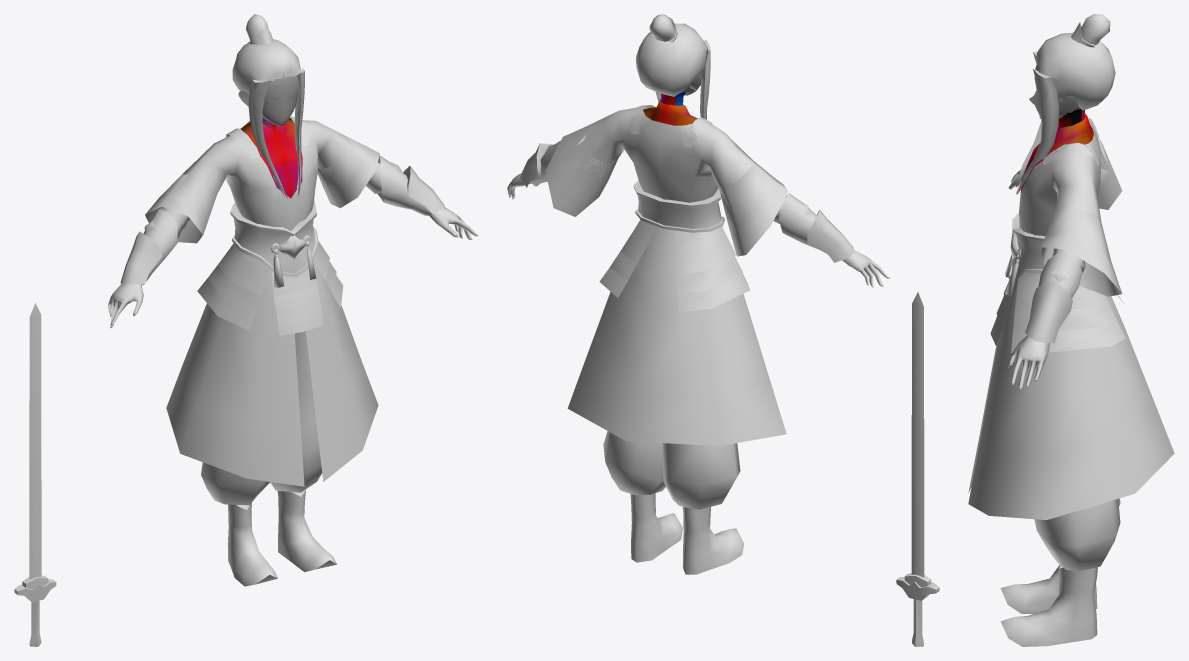
The model's file is m_016_sword_soldier_4_view.fbx.
3 views of the same model, side by side, from view 1: azimuth 30°, elevation 25°; view 2: azimuth 150°, elevation 25°; view 3: azimuth 270°, elevation 25° (orthographic). The views are drawn at different scales.
Parts seen in each view (by area): view 1: m_016_sword_soldier_4; view 2: m_016_sword_soldier_4; view 3: m_016_sword_soldier_4.
Boxes of the visible parts, x1=… form: m_016_sword_soldier_4: x1=14, y1=14, x2=478, y2=646; m_016_sword_soldier_4: x1=507, y1=14, x2=939, y2=646; m_016_sword_soldier_4: x1=968, y1=14, x2=1174, y2=646.
Bounding box in the file's own units: 196 × 240 × 70.42.
